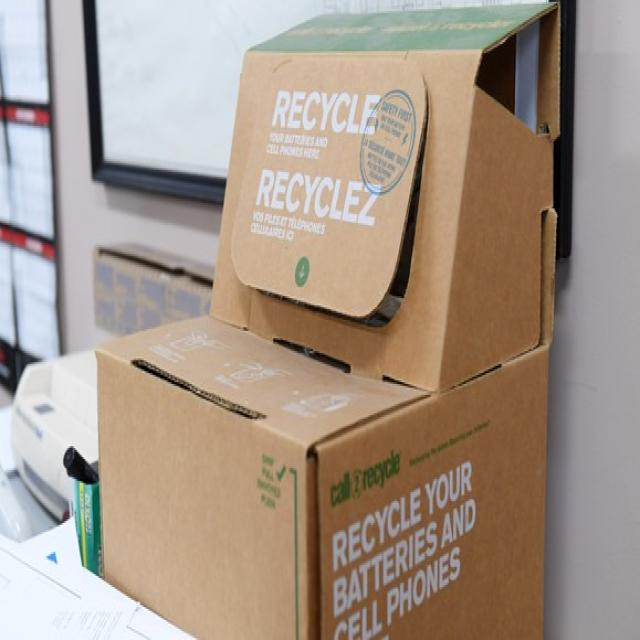cardboard: (92, 306, 550, 640), (211, 7, 567, 384)
